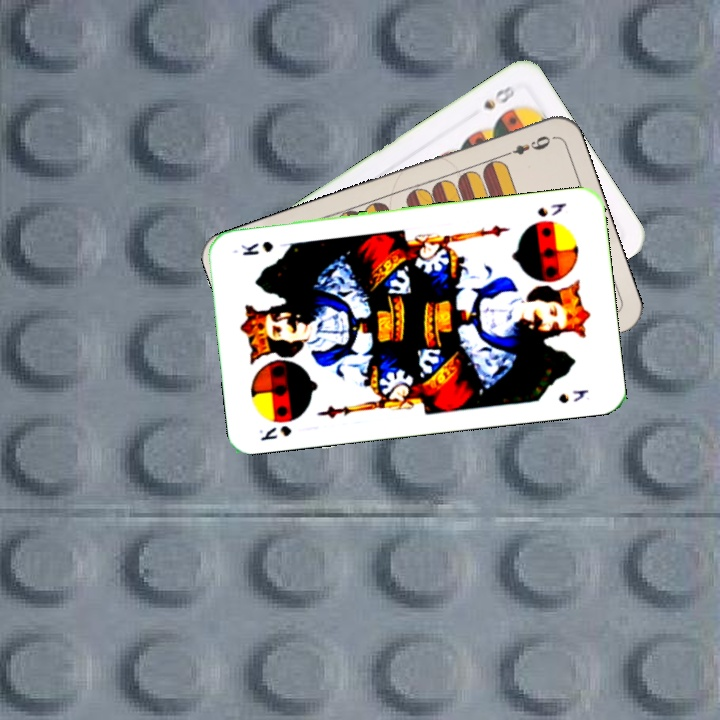E9: (498, 131, 554, 160)
S8: (479, 81, 517, 113)
SK: (255, 421, 294, 444), (533, 199, 569, 220)
